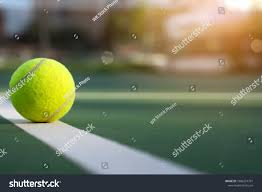tennis_ball: (8, 57, 76, 124)
